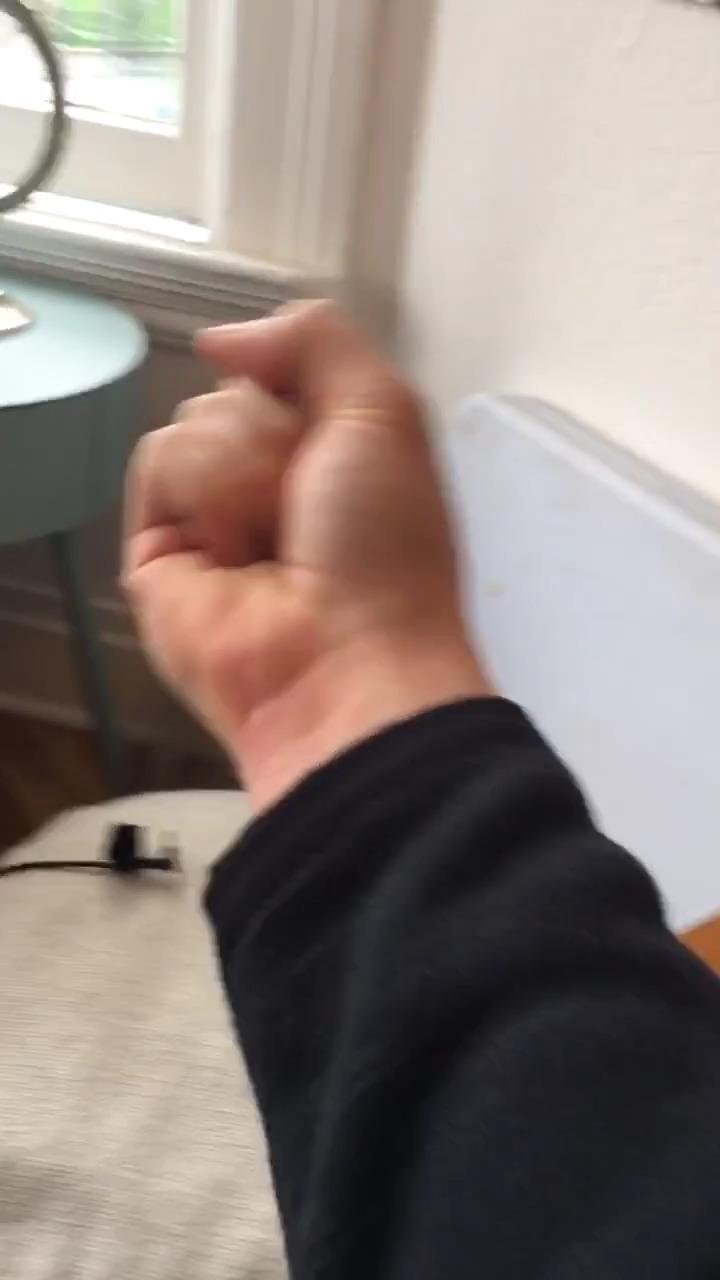Rock: (116, 292, 473, 738)
